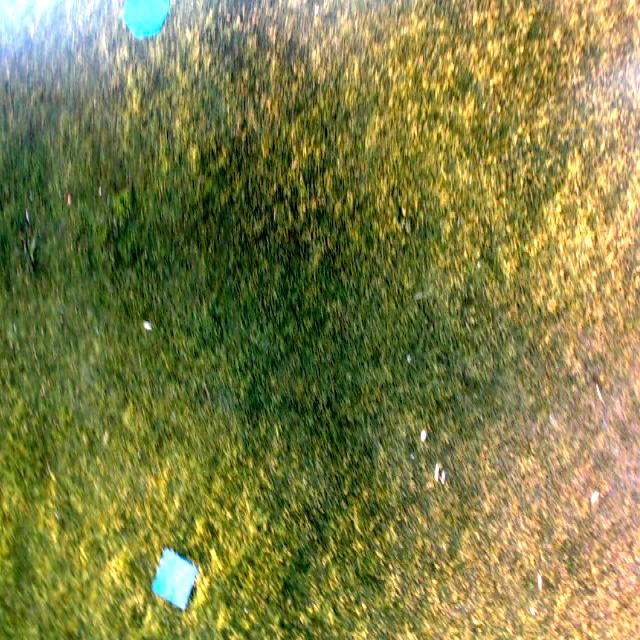blue_square: (153, 549, 198, 609)
